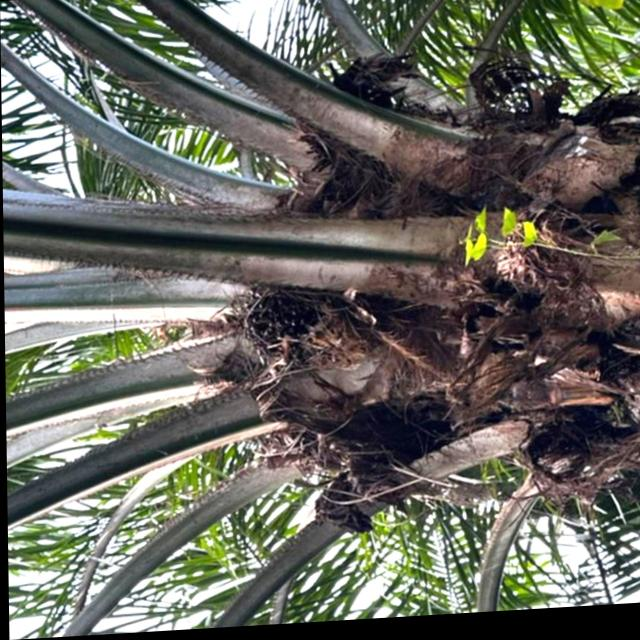unripe: (236, 266, 386, 399)
